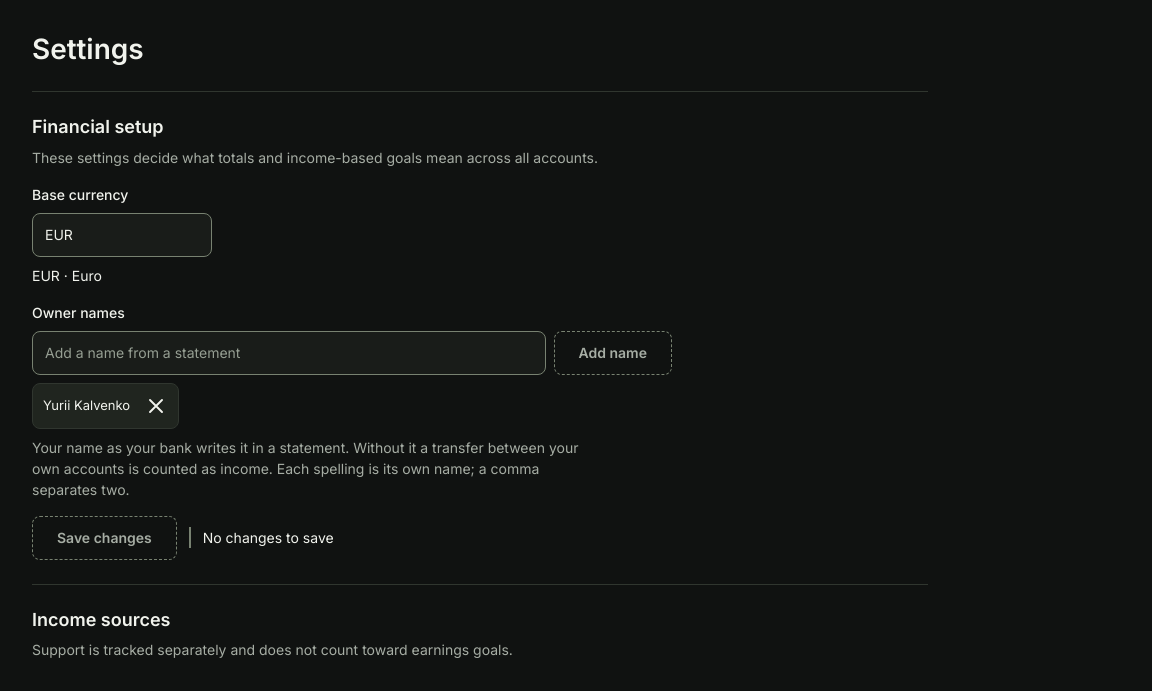
Test case: financial setup › says how many rows the refill left without a rate, and still tells the readers
Type "USD" into the field labelled "Base currency" at {"x": 122, "y": 234}, box 32,212 -> 212,256
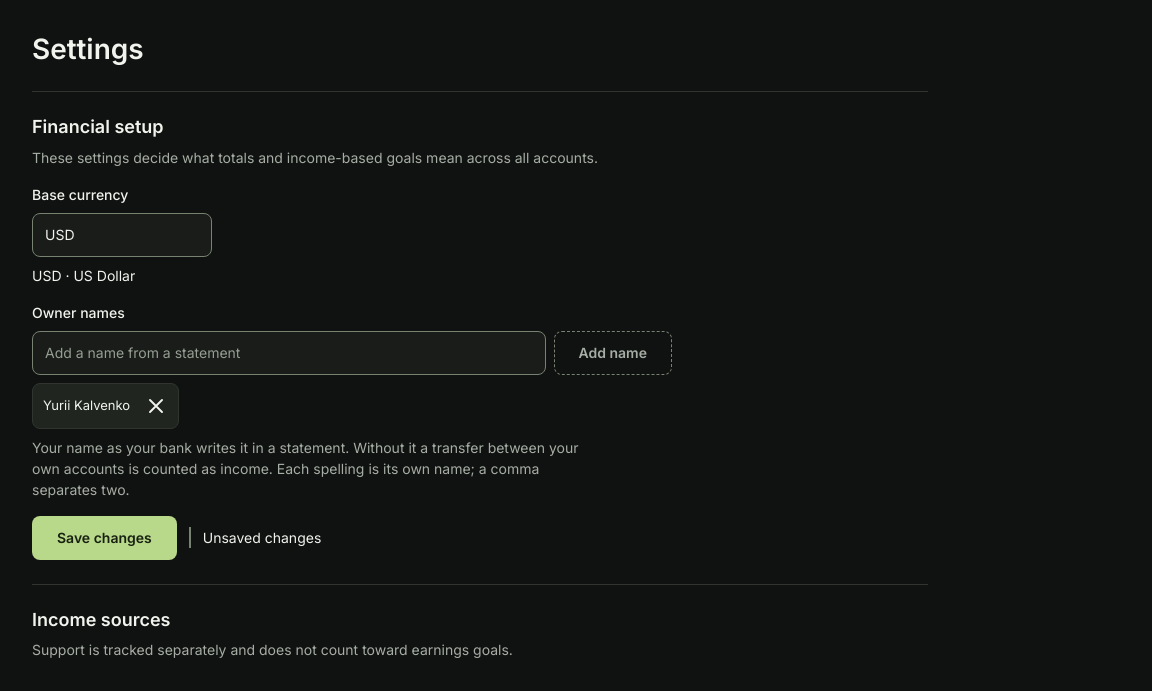
Click the button "Save changes" at {"x": 104, "y": 538}, box 32,516 -> 177,560
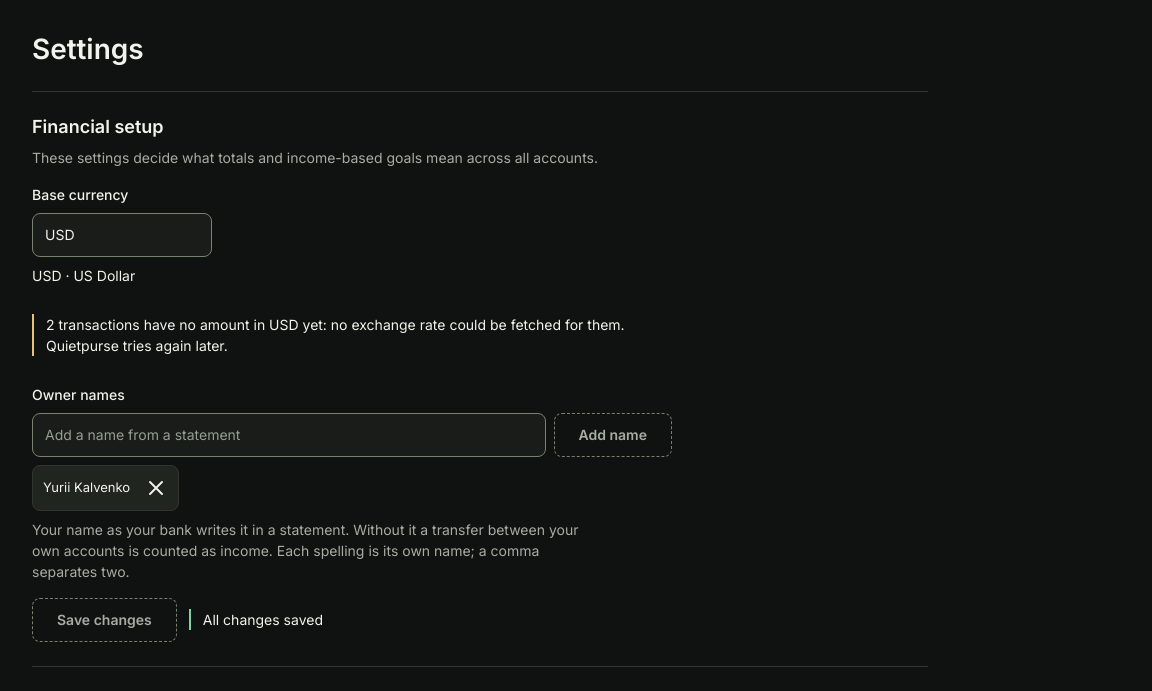
Result: the 1st message shows "2 transactions have no amount in USD yet: no exchange rate could be fetched for them. Quietpurse tries again later." at 32,314 -> 672,356
